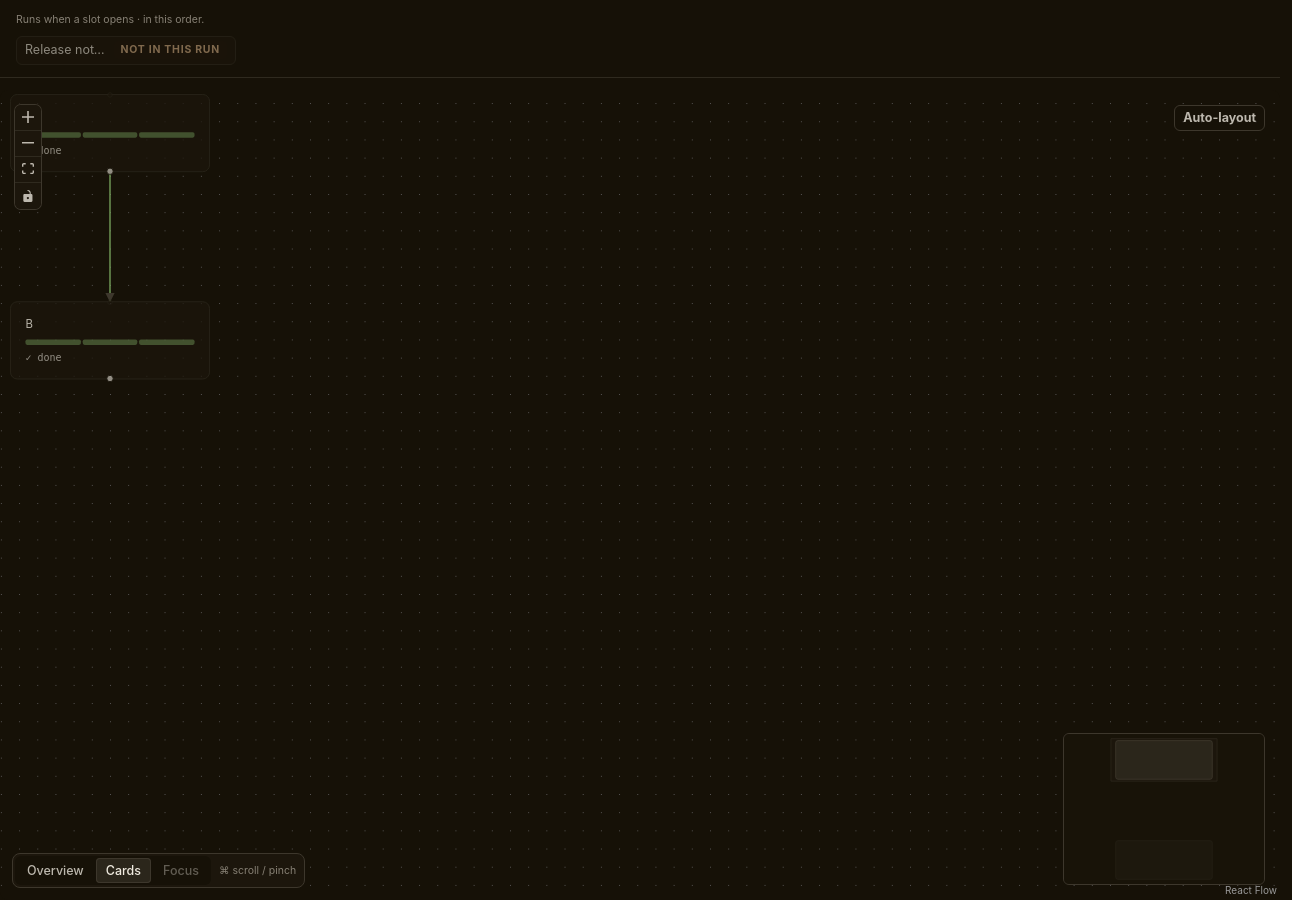
it: TaskGraphView — the tray in a run › clicking a tray card in a live run focuses it, and Esc closes the lens
Click the button "Release notes Not in this run" at (126, 50), box [16,36,236,65]
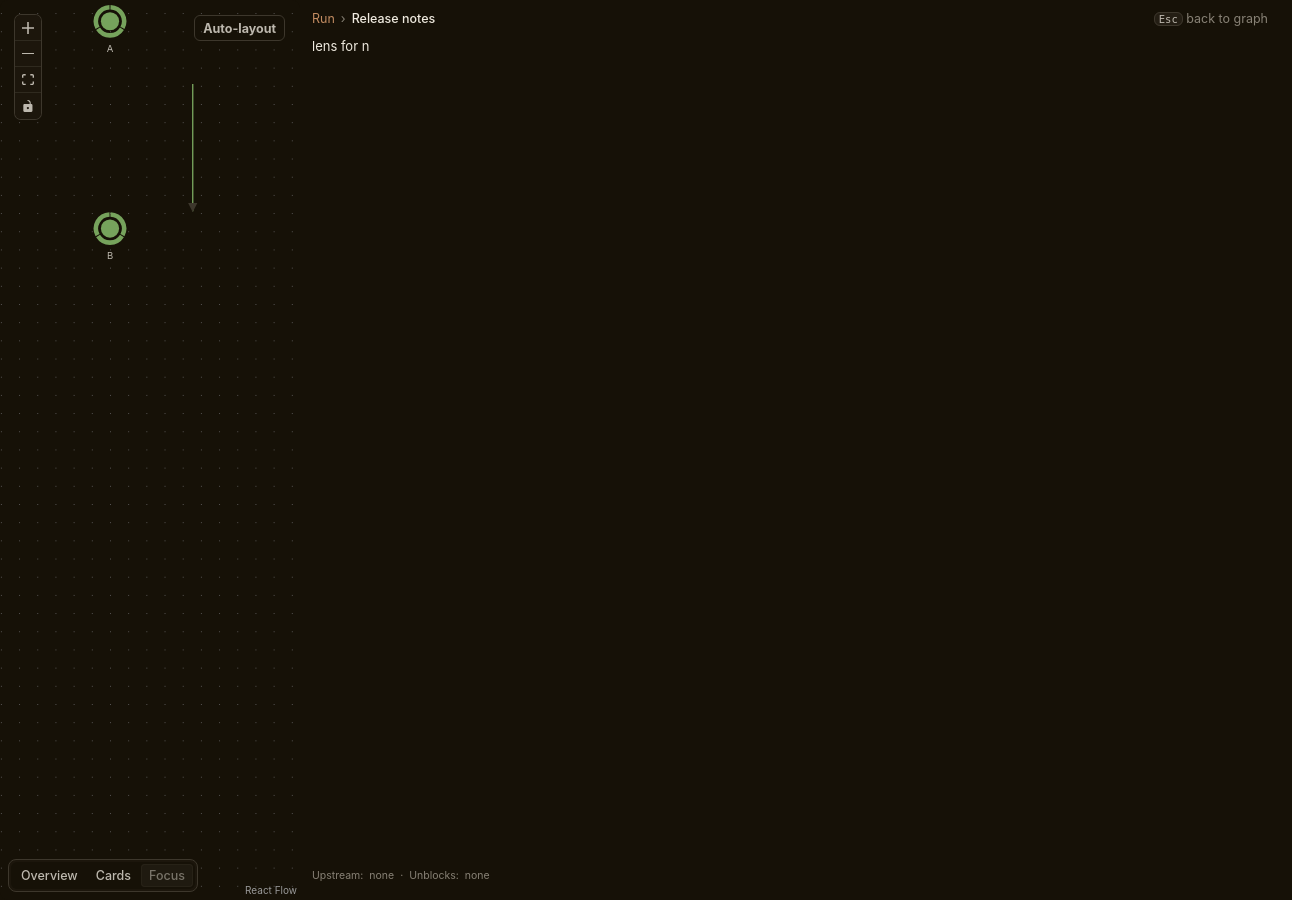
expect the text with test id "lens" reads "lens for n": met, box [312,38,369,54]
Press Escape
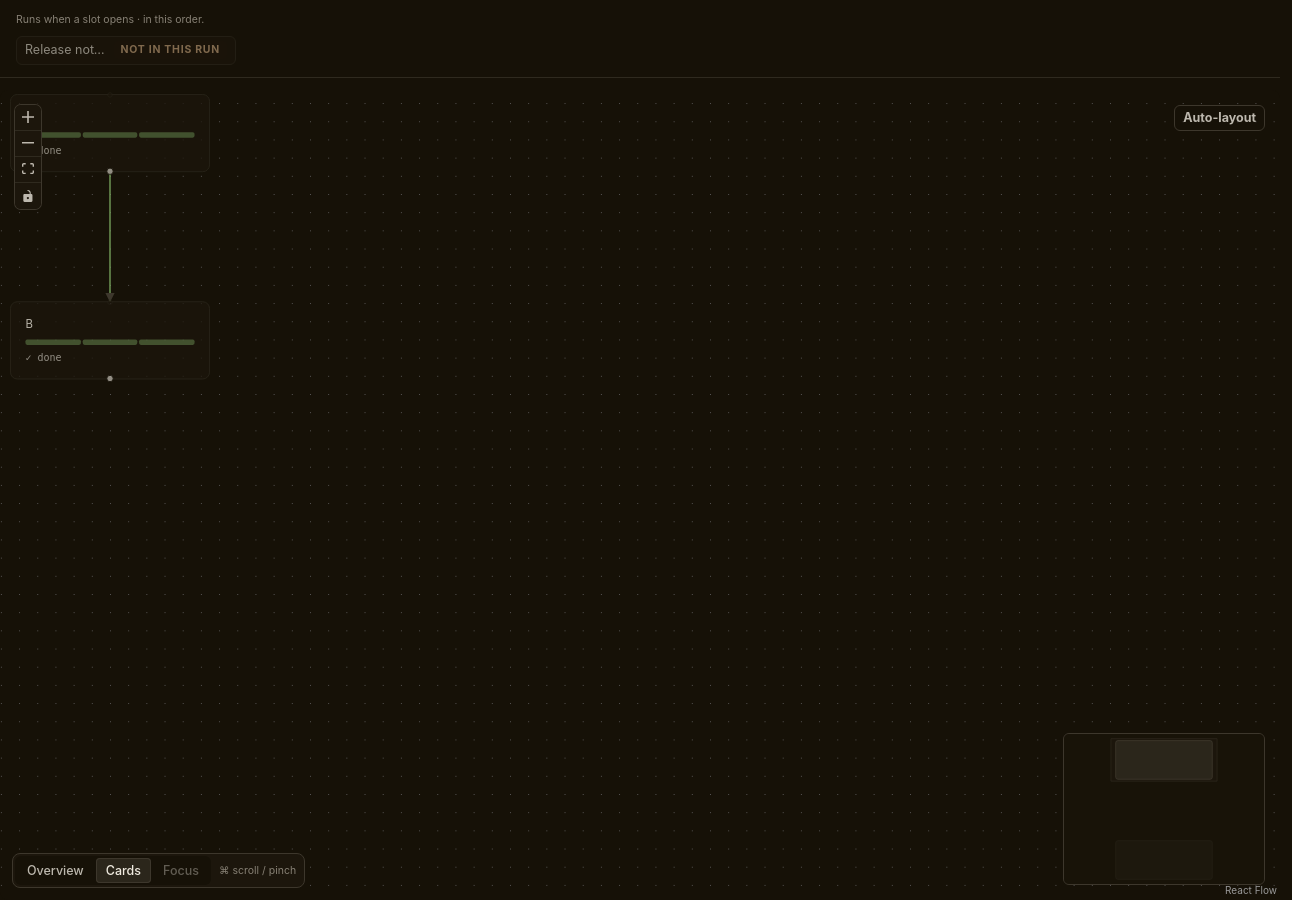
expect the text with test id "lens" is gone: met
expect the button "Release notes Not in this run" is shown: met, box [16,36,236,65]
